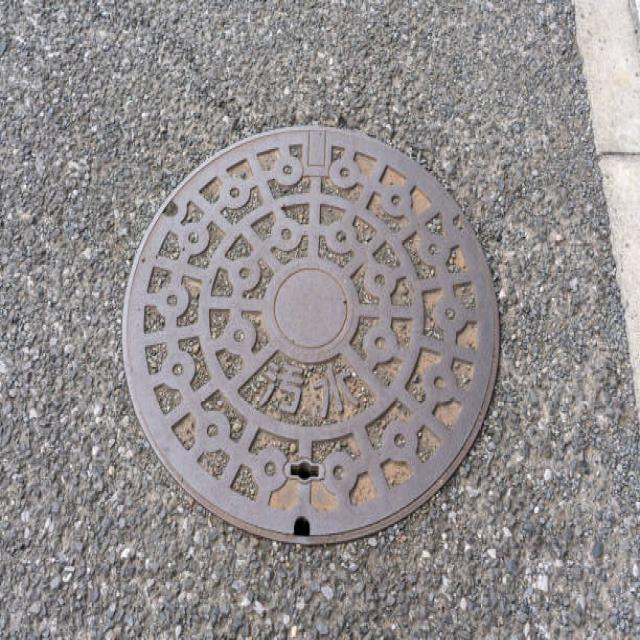Good: (120, 120, 509, 554)
